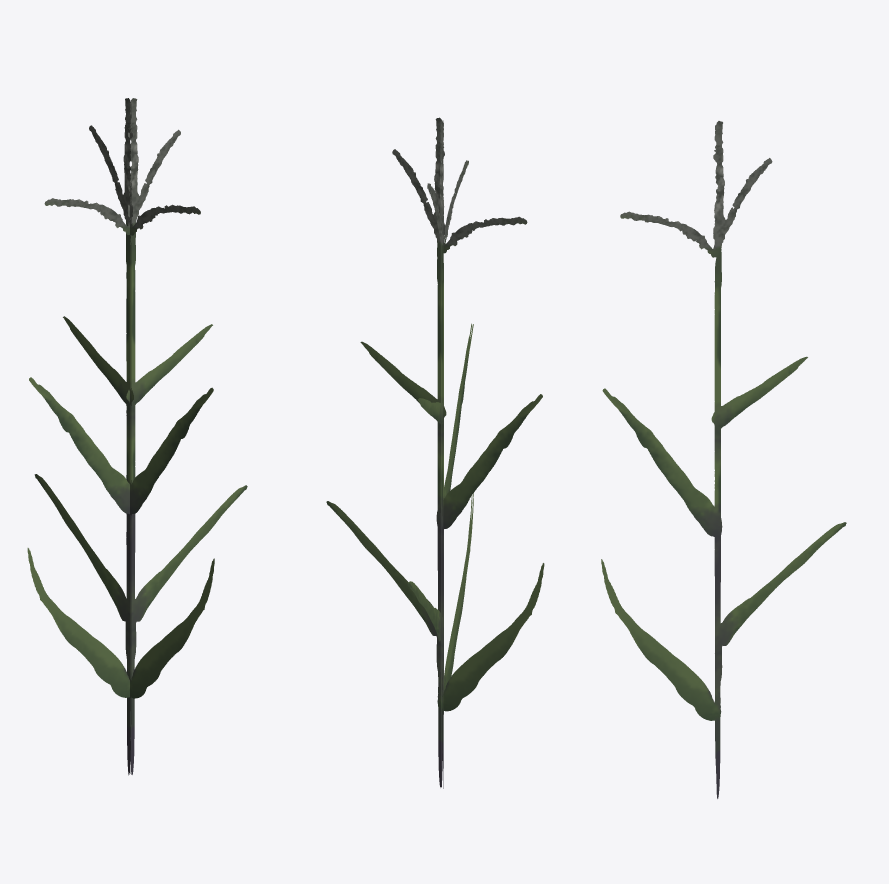
File: BgMD_Tanihira_PlantOhishibaOnly_02_01.fbx
3 views of the same model, side by side, from view 1: azimuth 30°, elevation 25°; view 2: azimuth 150°, elevation 25°; view 3: azimuth 270°, elevation 25° (orthographic).
Parts seen in each view (by area): view 1: polySurface10; view 2: polySurface10; view 3: polySurface10.
Boxes of the visible parts, x1=… form: polySurface10: x1=27, y1=98, x2=247, y2=775; polySurface10: x1=326, y1=117, x2=544, y2=788; polySurface10: x1=601, y1=121, x2=846, y2=798.
Size of the model in its own units: 6.91 by 20 by 6.68.
